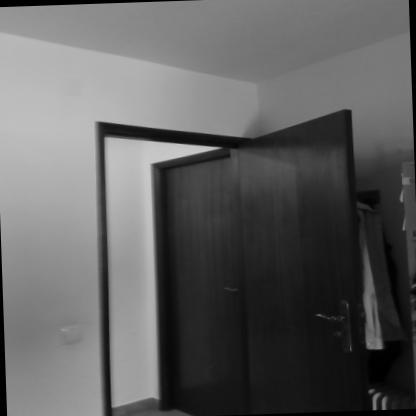open: (115, 96, 374, 414)
